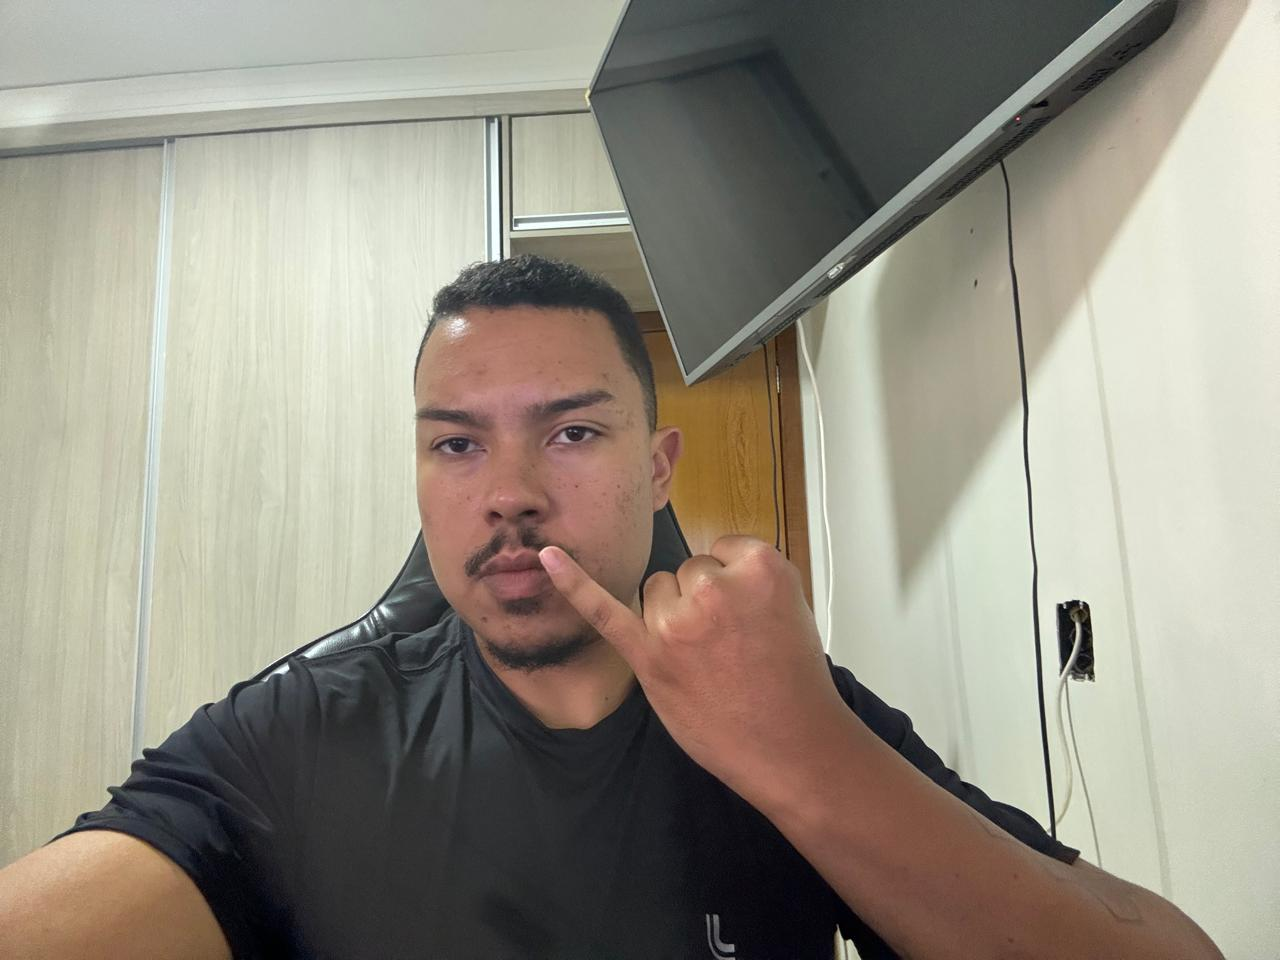j: (531, 523, 867, 795)
